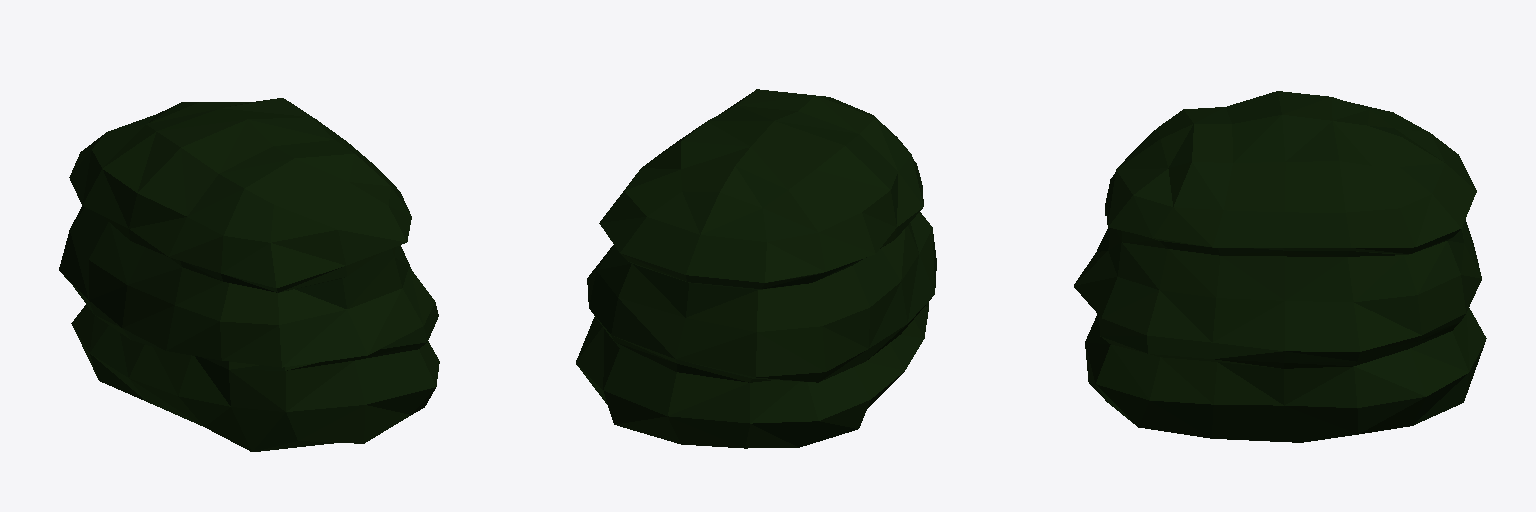
The model's file is Bush.obj.
3 renders of one model, left to right at view 1: azimuth 30°, elevation 25°; view 2: azimuth 150°, elevation 25°; view 3: azimuth 270°, elevation 25°, orthographic.
Parts seen in each view (by area): view 1: Bush_1; view 2: Bush_1; view 3: Bush_1.
Part boxes in pixels (x1,y1,x2,y2): Bush_1: (59,98,439,451); Bush_1: (576,89,936,448); Bush_1: (1074,91,1486,442).
Size of the model in its own units: 1.33 by 1.24 by 1.69.